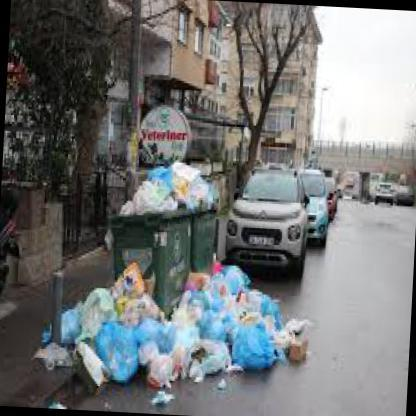Garbage: (195, 282, 310, 385), (219, 265, 300, 378), (146, 290, 235, 384), (65, 295, 162, 379), (124, 163, 217, 211)
